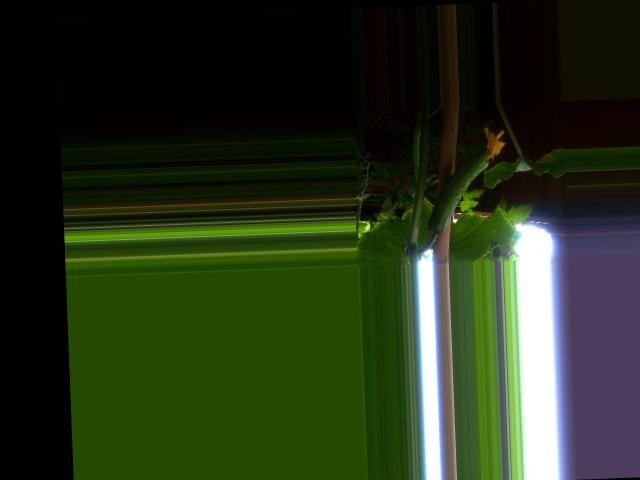cucumber: (425, 126, 510, 234)
